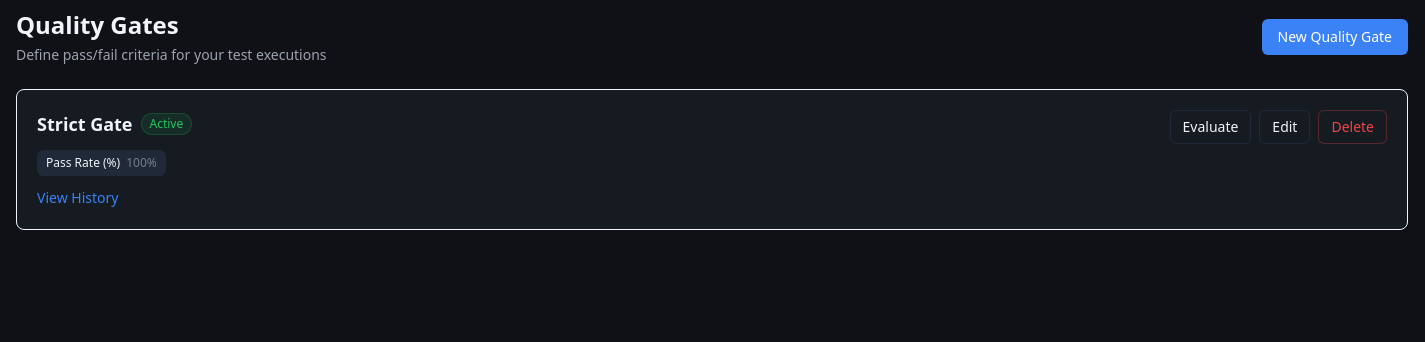
Test: QualityGatesPage › shows evaluation result badge after evaluation
Click the button "Evaluate" at [1210, 127], box [1170,110,1251,144]
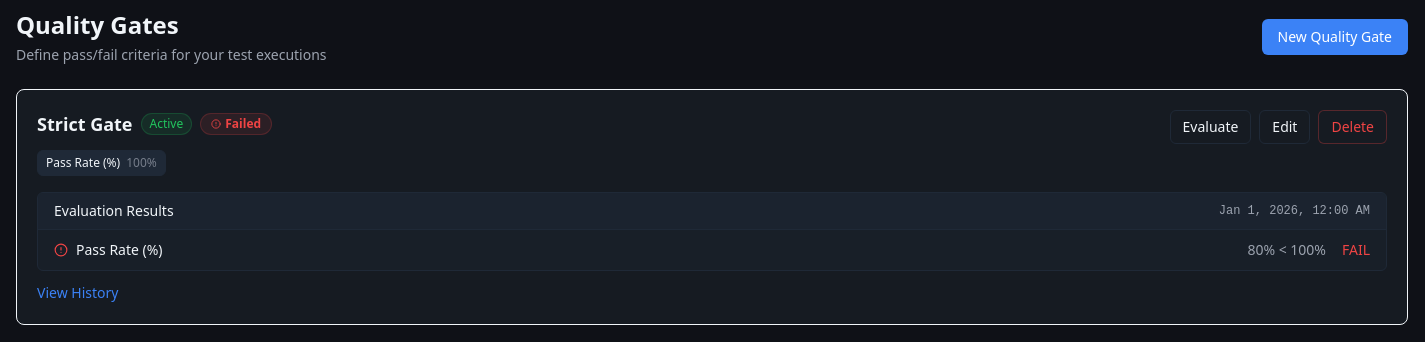
Expected: the text "Failed" is shown, [200,113,272,135]
